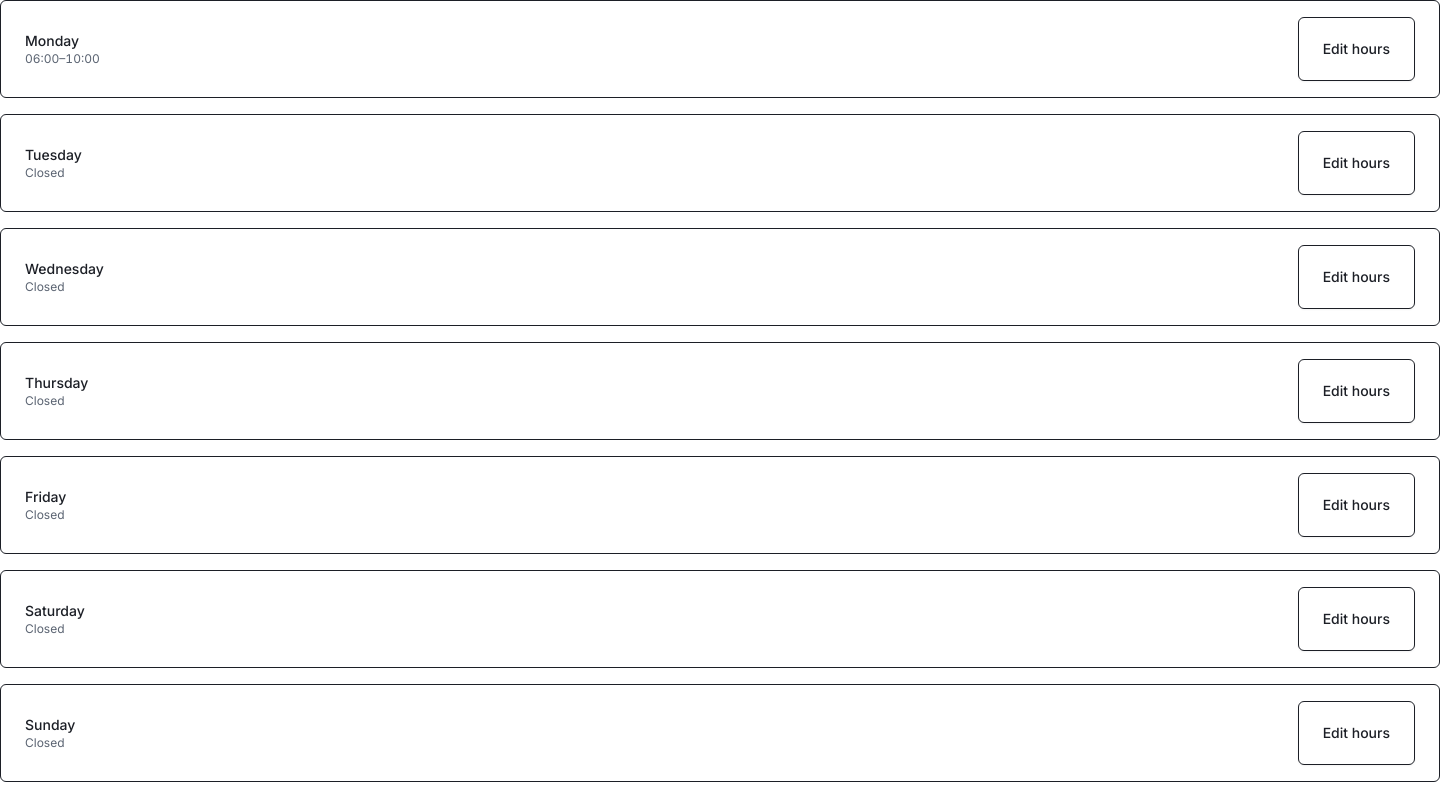
Scenario: WeeklyScheduleEditor › non-Monday empty day pre-fills from previous day's ranges
Click the button with aria-label "edit tuesday hours".
click(1356, 163)  # box left=1298, top=131, right=1415, bottom=195
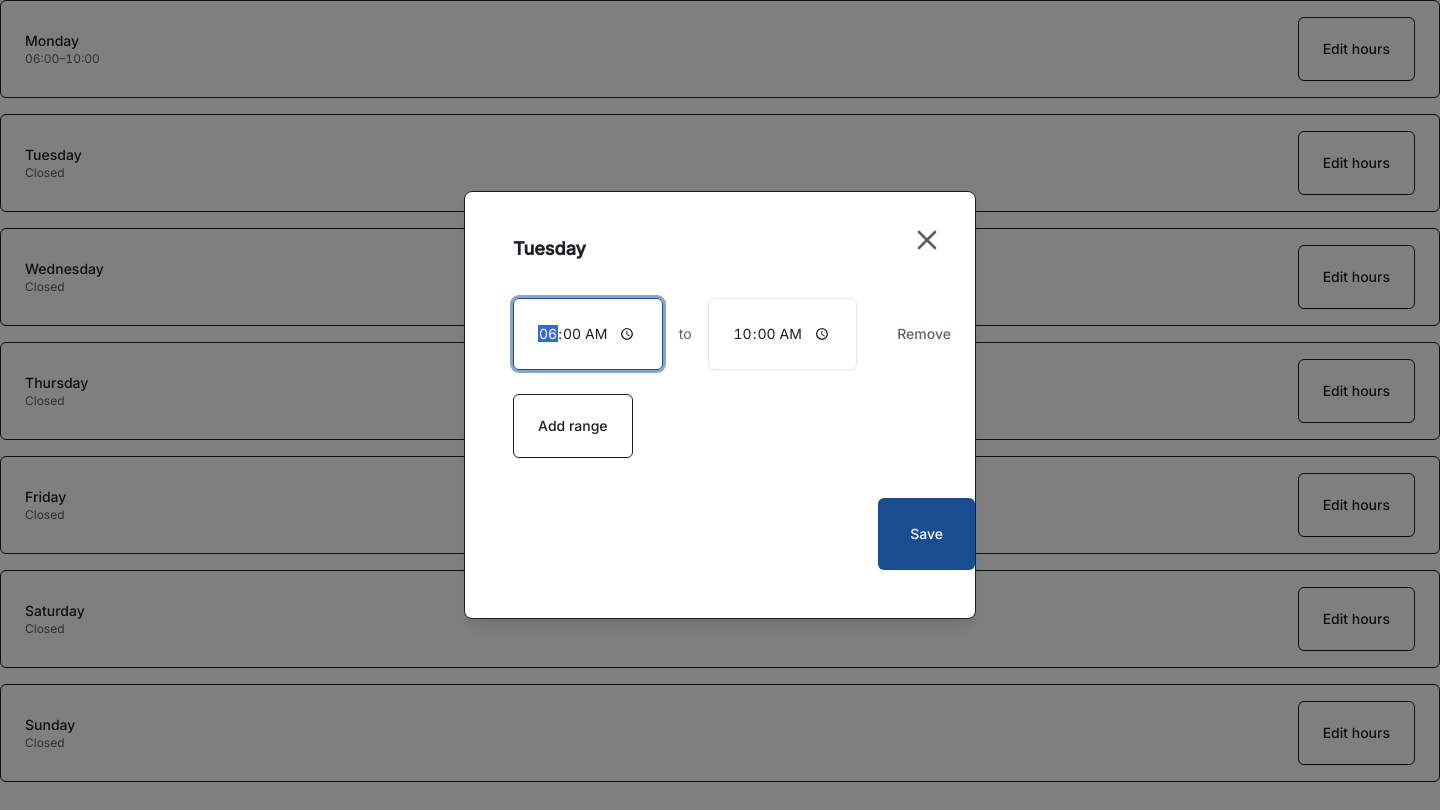
Now the time field named "start" holds "06:00", box left=513, top=298, right=663, bottom=370
Now the time field named "end" holds "10:00", box left=708, top=298, right=857, bottom=370
